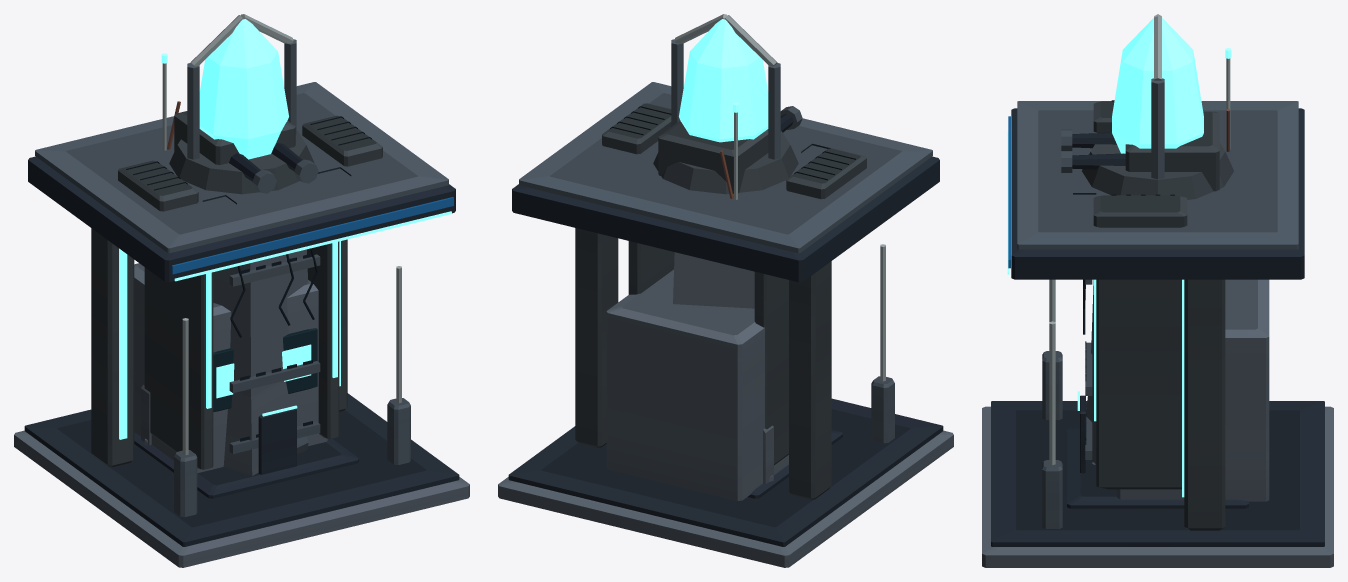
The model's file is ap_estructuras.glb.
3 renders of one model, left to right at view 1: azimuth 30°, elevation 25°; view 2: azimuth 150°, elevation 25°; view 3: azimuth 270°, elevation 25°, orthographic. The views are drawn at different scales.
Visible parts, largest first — view 1: nexo_azul__structure, torre_azul_1__structure, torre_azul_2__structure, torre_azul_3__structure; view 2: nexo_azul__structure, torre_azul_1__structure, torre_azul_3__structure; view 3: nexo_azul__structure, torre_azul_1__structure.
Part boxes in pixels (bbox=[...]): nexo_azul__structure: bbox=[14, 14, 469, 567]; torre_azul_1__structure: bbox=[134, 53, 358, 498]; torre_azul_2__structure: bbox=[167, 101, 318, 337]; torre_azul_3__structure: bbox=[141, 384, 308, 453]; nexo_azul__structure: bbox=[498, 14, 953, 567]; torre_azul_1__structure: bbox=[628, 102, 842, 498]; torre_azul_3__structure: bbox=[763, 425, 773, 484]; nexo_azul__structure: bbox=[982, 14, 1333, 567]; torre_azul_1__structure: bbox=[1061, 48, 1248, 508].
Bounding box in the file's own units: 6 × 9.07 × 6.
16 materials, 16 textured.
